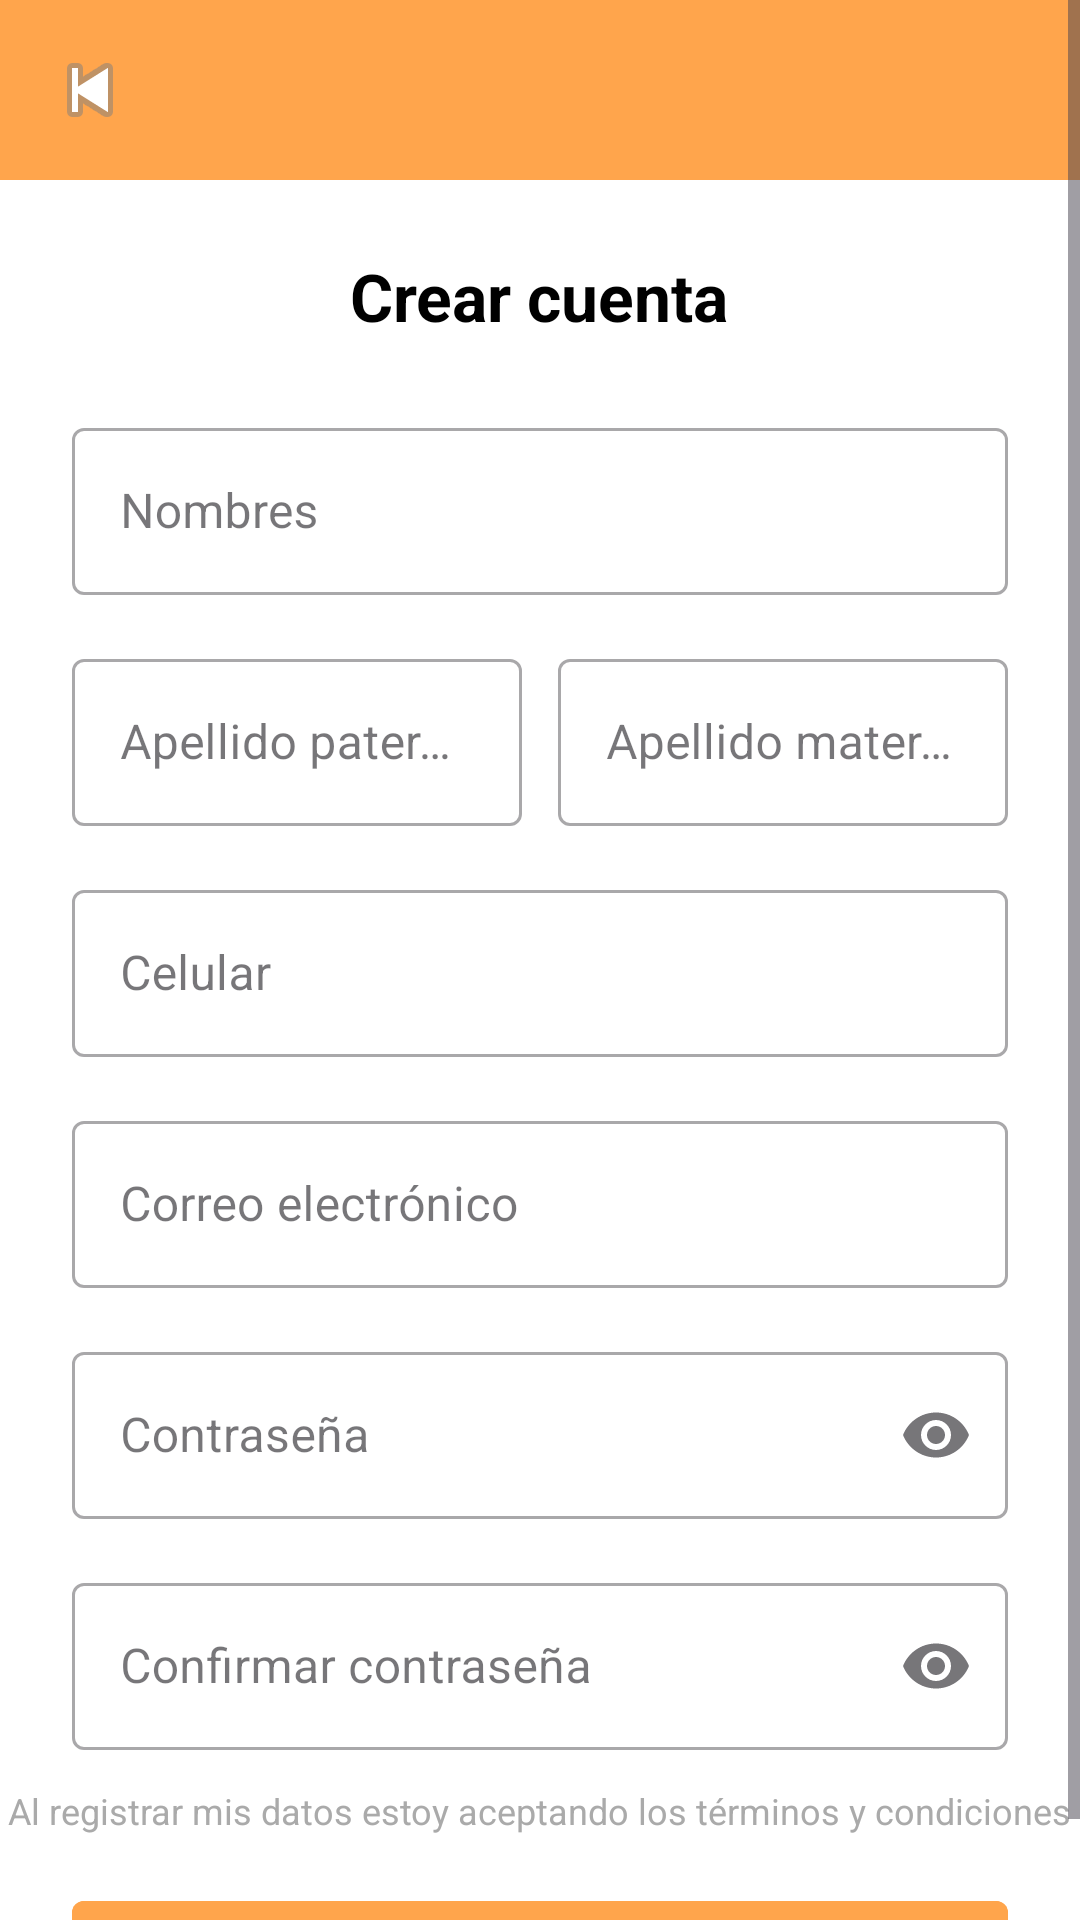

Icon bounding boxes for this 1080 x 1920 phone screenshot, format [x1=x1, y1=y1, x2=x2, y2=y2]:
previous: [x1=67, y1=63, x2=113, y2=117]
